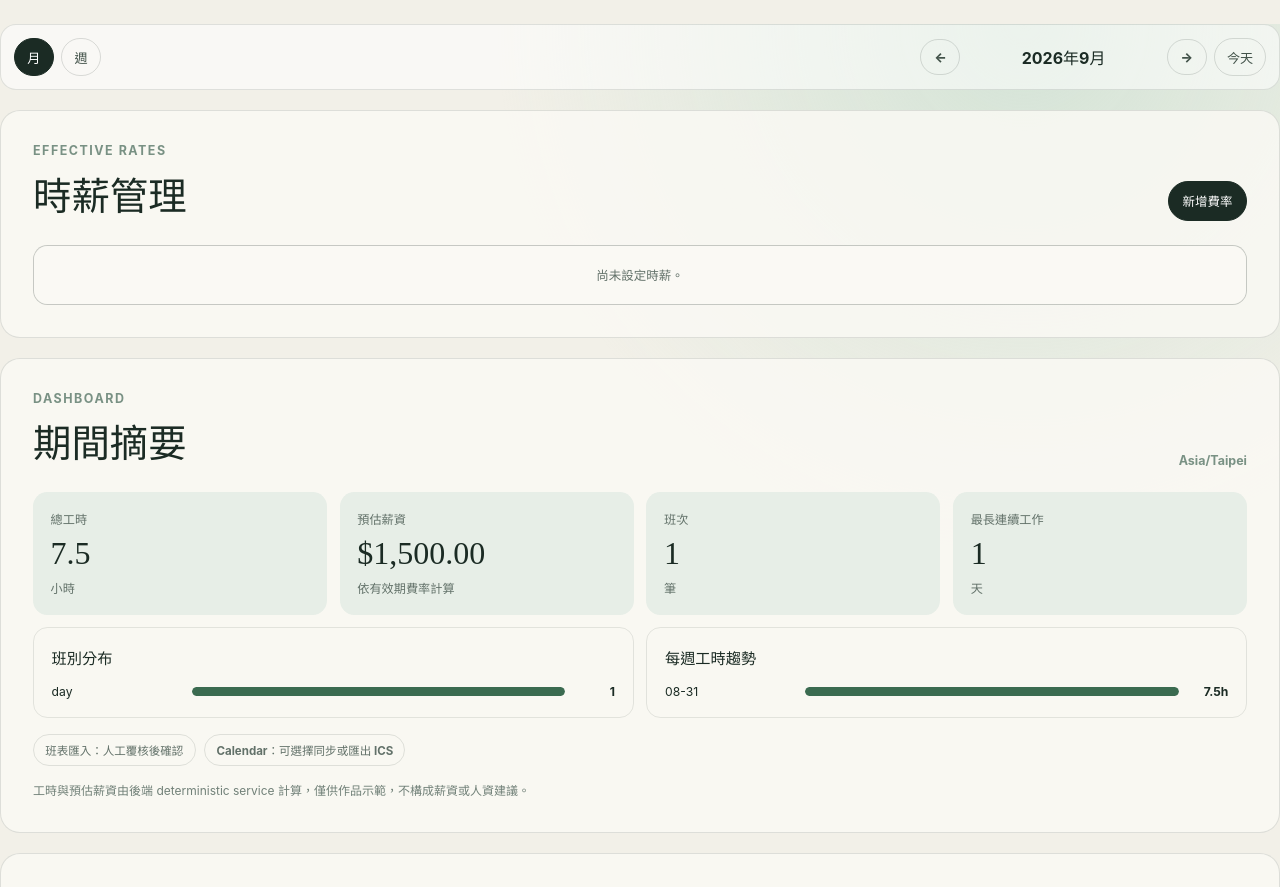
Test: Workspace › switches to a Monday-to-Sunday week and refetches
Expected: the text "$1,500.00" is shown, [357, 535, 485, 571]
Click the button "週".
click(81, 57)  # box [61, 38, 101, 76]
(page scrolled)
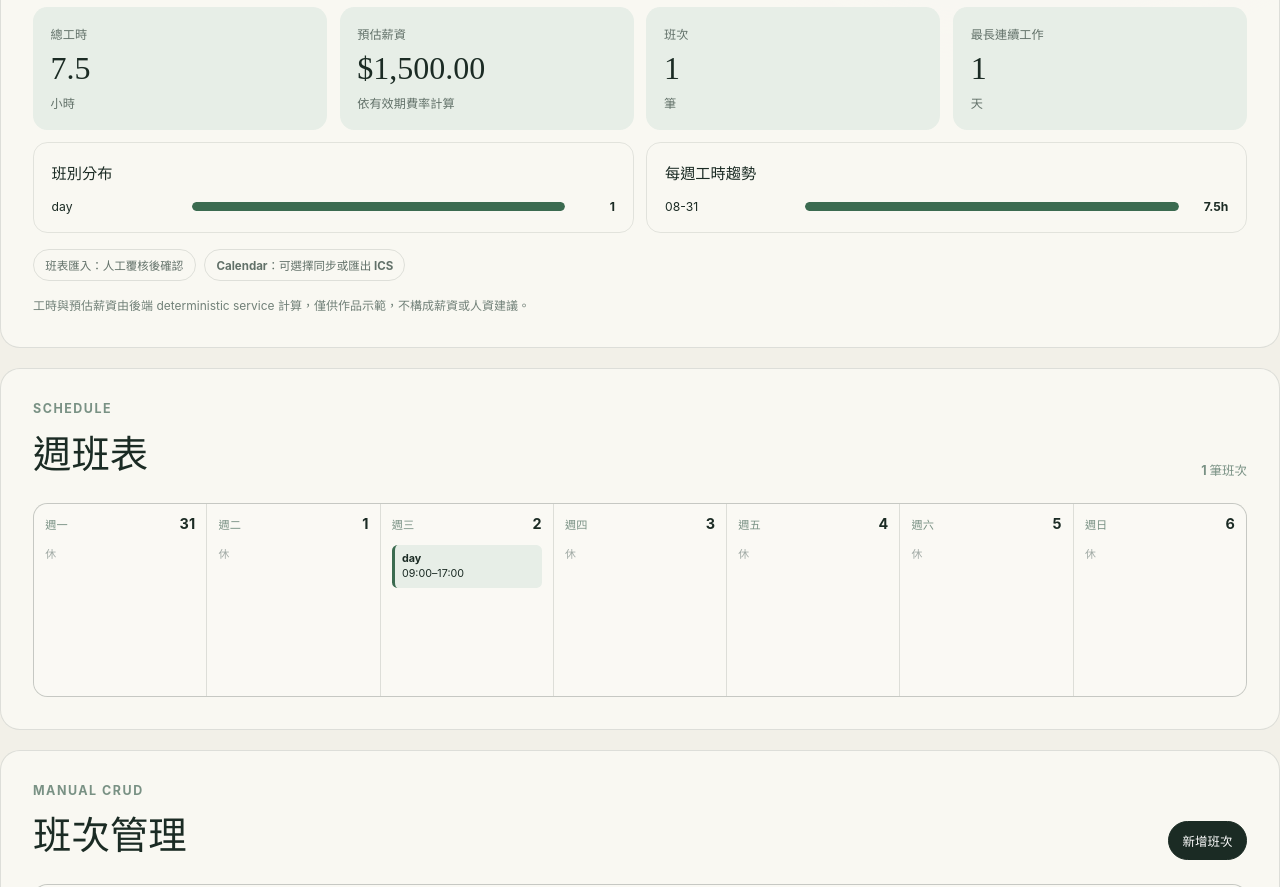
Expected: the heading "週班表" is shown, [33, 423, 148, 479]
